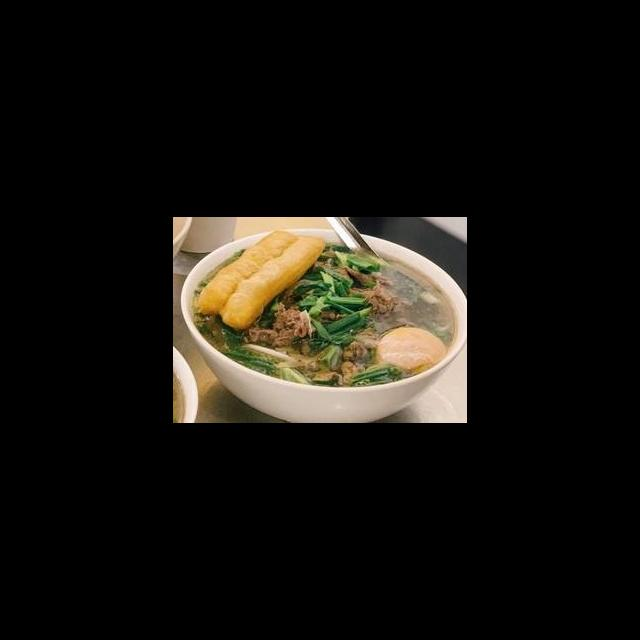thit bo: (343, 262, 413, 320), (243, 299, 318, 348), (337, 339, 369, 389)
trung: (371, 324, 448, 377)
